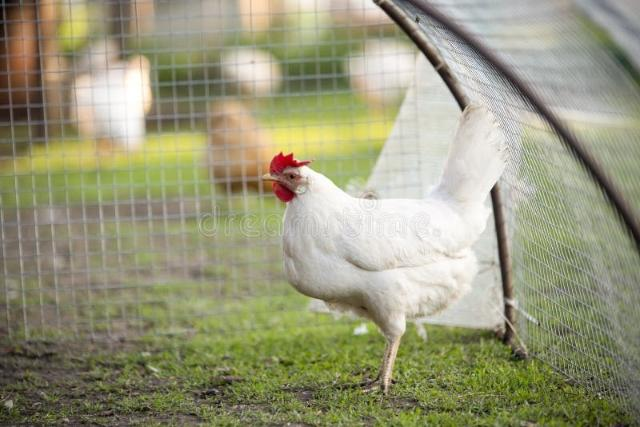Chicken: (261, 102, 507, 392)
